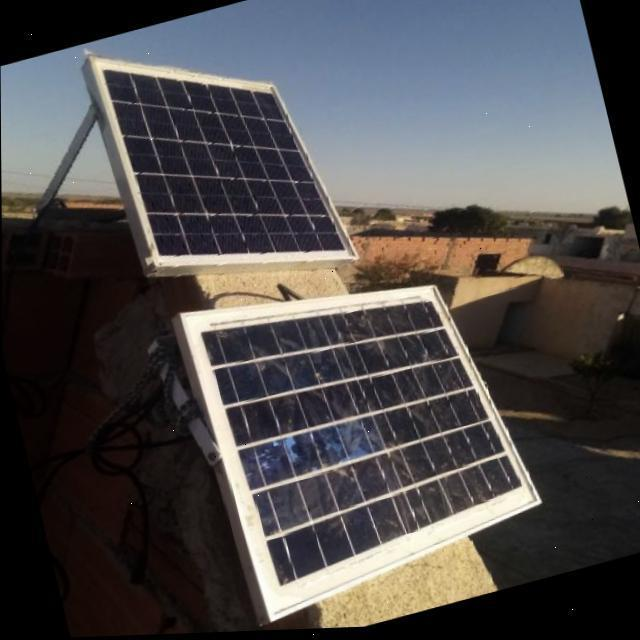Normal Solar Panel: (90, 3, 360, 316)
